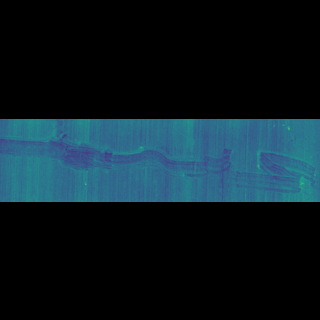Loch: (0, 153, 233, 164), (218, 156, 318, 169)
